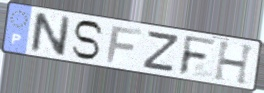F: (177, 34, 219, 78), (104, 25, 144, 64)
H: (212, 40, 257, 87)
N: (29, 11, 73, 58)
S: (70, 19, 106, 61)
Z: (140, 31, 182, 74)
